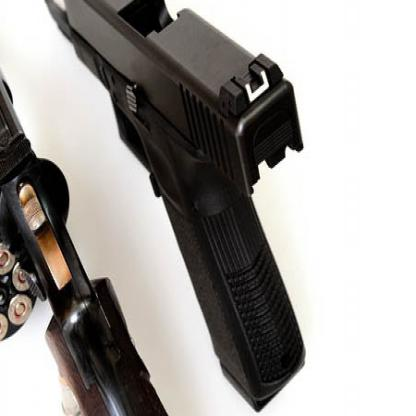gun: (40, 0, 308, 415), (0, 0, 223, 415)
